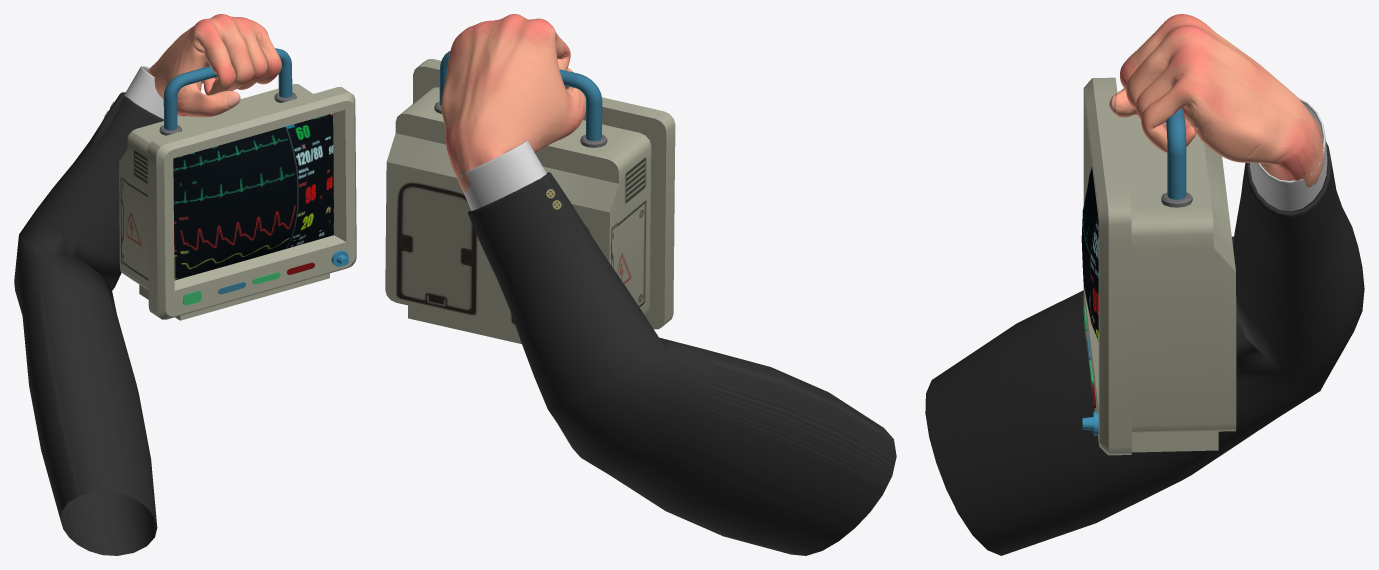
The model's file is Monitor (1).fbx.
The picture shows the model from 3 angles, left to right: view 1: azimuth 30°, elevation 25°; view 2: azimuth 150°, elevation 25°; view 3: azimuth 270°, elevation 25°; orthographic projection. The views are drawn at different scales.
Parts seen in each view (by area): view 1: ECG, Sleeve_only, Sphere.002; view 2: Sleeve_only, ECG, Sphere.002; view 3: Sleeve_only, ECG, Sphere.002.
Part boxes in pixels (x1,y1,x2,y2): ECG: [119, 48, 356, 320]; Sleeve_only: [14, 66, 180, 555]; Sphere.002: [146, 14, 281, 117]; Sleeve_only: [457, 140, 896, 555]; ECG: [385, 51, 675, 343]; Sphere.002: [441, 14, 585, 193]; Sleeve_only: [925, 97, 1364, 555]; ECG: [1081, 77, 1236, 455]; Sphere.002: [1109, 14, 1324, 187].
Size of the model in its own units: 5059 by 6371 by 3967.
